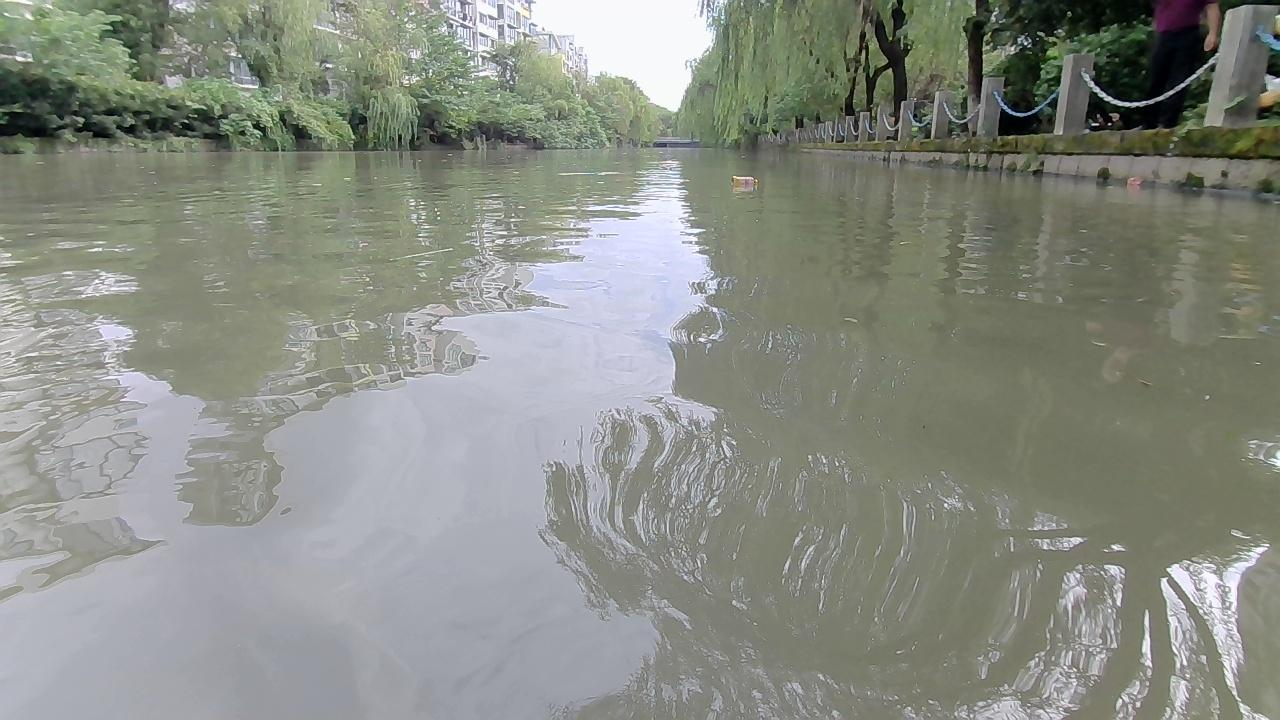bottle: (729, 172, 761, 188), (1128, 173, 1145, 192)
